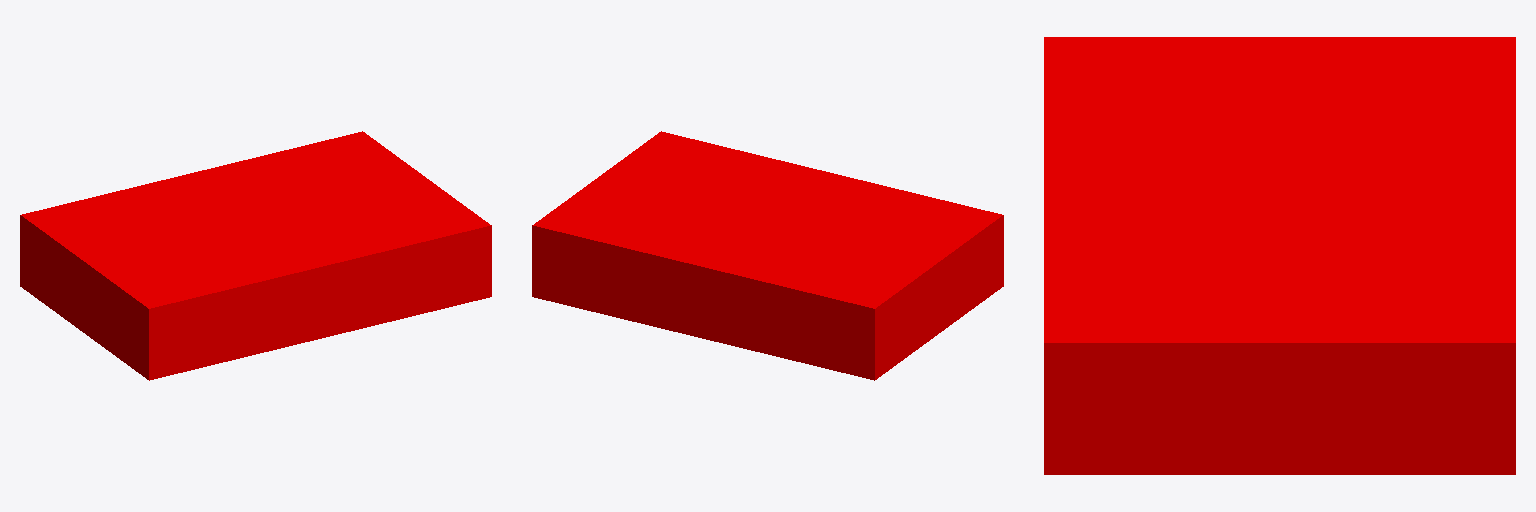
The robot description file, URDF, robot "robot":
<?xml version="1.0"?>

<robot name="robot">
    <!-- Link - chassis -->
    <link name="link_chassis">
        <inertial>
            <mass value="10" />
            <origin xyz="0 0 0.3" rpy="0 0 0" />
            <inertia ixx="1.5417" ixy="0" ixz="0" iyy="3.467" iyz="0" izz="4.742" />
        </inertial>

        <collision>
            <geometry>
                <box size="2 1.3 0.4" />
            </geometry>
        </collision>

        <visual>
            <geometry>
                <box size="2 1.3 0.4" />
            </geometry>
            <material name="Red">
                <color rgba="1 0 0 1" />
            </material>
        </visual>
    </link>
</robot>

--- Facts derived from the render (not from the file) ---
3 views of the same robot in one strip: view 1: azimuth 30°, elevation 25°; view 2: azimuth 150°, elevation 25°; view 3: azimuth 270°, elevation 25° (orthographic).
Robot: robot — 1 links, 0 joints (none); root link link_chassis; default pose: every joint at zero.
Links seen in each view (by area): view 1: link_chassis; view 2: link_chassis; view 3: link_chassis.
Link boxes in pixels (bbox=[...]): link_chassis: bbox=[20, 131, 491, 380]; link_chassis: bbox=[532, 131, 1003, 380]; link_chassis: bbox=[1044, 37, 1515, 474].
Bounding box of the posed robot: 2 × 1.3 × 0.4 m (x, y, z).
Geometry: primitives only (box / cylinder / sphere), no mesh files.